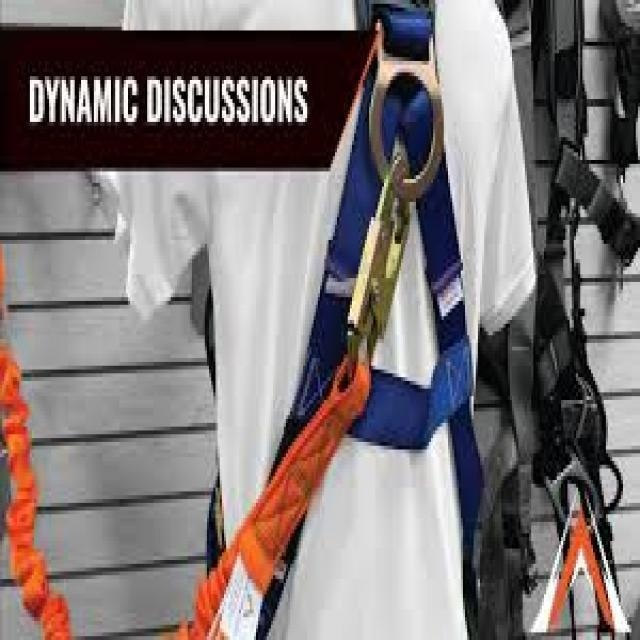Arnes_seguridad: (304, 0, 498, 433)
